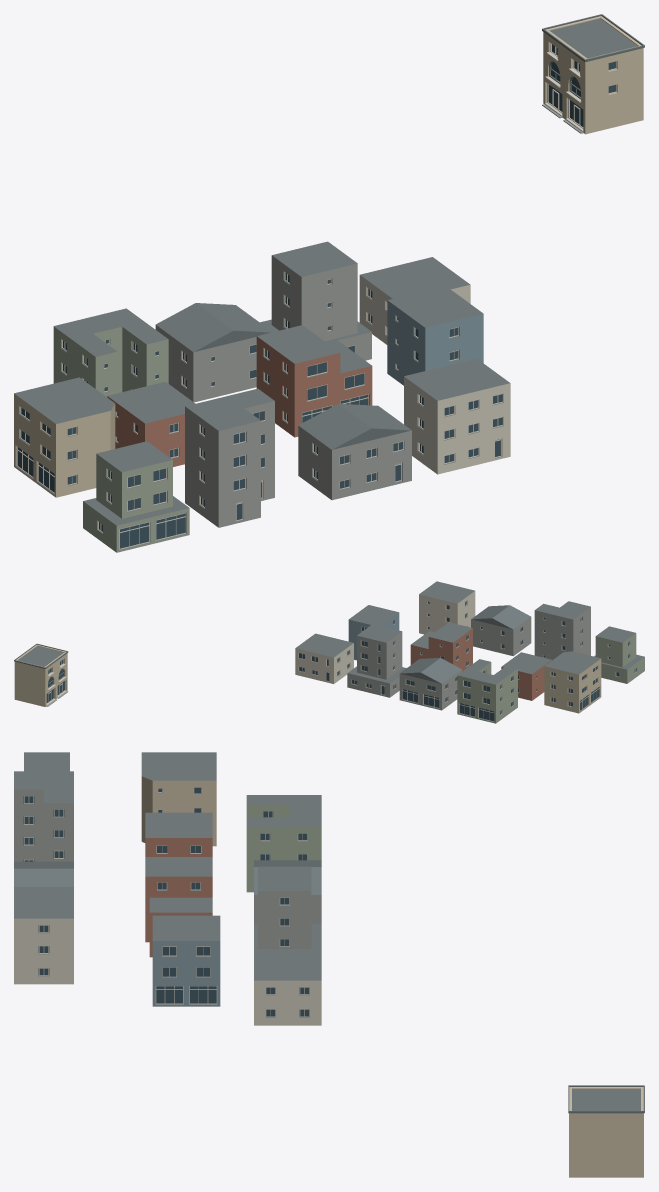
File: Buildings2.fbx
3 views of the same model, one above another, from view 1: azimuth 30°, elevation 25°; view 2: azimuth 150°, elevation 25°; view 3: azimuth 270°, elevation 25° (orthographic). The views are drawn at different scales.
Visible parts, largest first — view 1: AB01_E11.001, AB01_F01.001, AB01_E13.001, AB01_E06.001, AB01_E12.001, AB01_E10.001, AB01_E08.001, AB01_E04.001, AB01_E03.001, AB01_E02.001, AB01_E09.001, AB01_E07.001 (+1 smaller); view 2: AB01_E04.001, AB01_E02.001, AB01_E06.001, AB01_E11.001, AB01_F01.001, AB01_E03.001, AB01_E12.001, AB01_E05.001, AB01_E13.001, AB01_E10.001, AB01_E08.001, AB01_E07.001 (+1 smaller); view 3: AB01_F01.001, AB01_E09.001, AB01_E13.001, AB01_E11.001, AB01_E02.001, AB01_E05.001, AB01_E06.001, AB01_E04.001, AB01_E08.001, AB01_E07.001, AB01_E12.001, AB01_E03.001 (+1 smaller).
Boxes of the visible parts, box(x1,y1,x2,y2) form: AB01_E11.001: box(185, 388, 274, 527); AB01_F01.001: box(542, 14, 644, 134); AB01_E13.001: box(404, 358, 510, 474); AB01_E06.001: box(14, 377, 115, 497); AB01_E12.001: box(298, 403, 411, 500); AB01_E10.001: box(83, 441, 189, 552); AB01_E08.001: box(256, 325, 372, 437); AB01_E04.001: box(260, 241, 371, 360); AB01_E03.001: box(155, 303, 272, 402); AB01_E02.001: box(53, 308, 168, 396); AB01_E09.001: box(387, 286, 483, 385); AB01_E07.001: box(107, 381, 195, 466); AB01_E04.001: box(347, 624, 406, 697); AB01_E02.001: box(457, 659, 517, 723); AB01_E06.001: box(544, 651, 601, 713); AB01_E11.001: box(534, 601, 590, 660); AB01_F01.001: box(14, 643, 68, 706); AB01_E03.001: box(399, 658, 461, 710); AB01_E12.001: box(471, 605, 531, 656); AB01_E05.001: box(295, 633, 353, 683); AB01_E13.001: box(419, 581, 475, 634); AB01_E10.001: box(594, 626, 644, 683); AB01_E08.001: box(410, 622, 472, 671); AB01_E07.001: box(501, 652, 551, 700); AB01_F01.001: box(568, 1085, 644, 1177); AB01_E09.001: box(152, 915, 220, 1006); AB01_E13.001: box(14, 887, 73, 984); AB01_E11.001: box(14, 771, 73, 861); AB01_E02.001: box(246, 795, 321, 892); AB01_E05.001: box(254, 949, 321, 1025); AB01_E06.001: box(141, 752, 216, 846); AB01_E04.001: box(254, 866, 321, 948); AB01_E08.001: box(145, 857, 212, 957); AB01_E07.001: box(145, 812, 212, 856); AB01_E12.001: box(14, 861, 73, 886); AB01_E03.001: box(254, 860, 321, 923).
Bounding box in the file's own units: 115 × 12.7 × 84.12.
